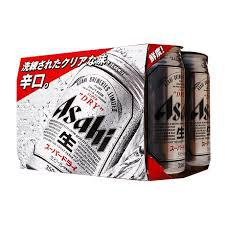beer: (16, 45, 211, 180)
